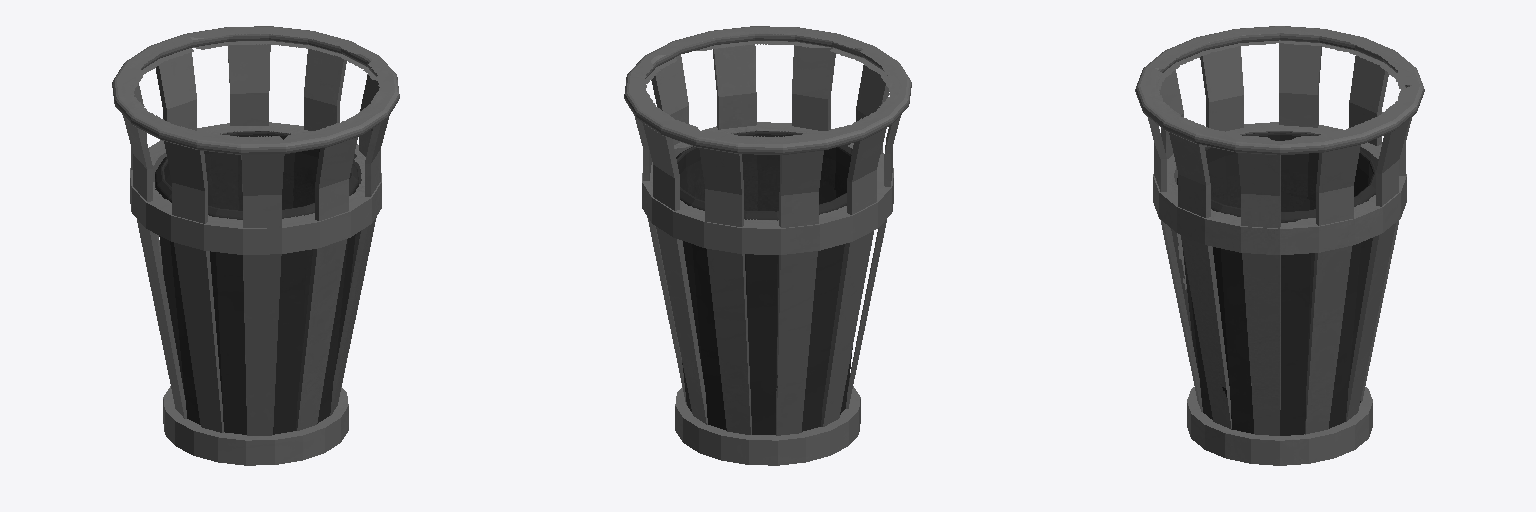
3 renders of one model, left to right at view 1: azimuth 30°, elevation 25°; view 2: azimuth 150°, elevation 25°; view 3: azimuth 270°, elevation 25°, orthographic.
Visible parts, largest first — view 1: pCylinder8; view 2: pCylinder8; view 3: pCylinder8.
Part boxes in pixels (bbox=[...]): pCylinder8: bbox=[112, 26, 399, 465]; pCylinder8: bbox=[624, 26, 911, 465]; pCylinder8: bbox=[1135, 26, 1424, 465].
Size of the model in its own units: 0.7388 by 0.9618 by 0.7388.
Materials: 1 (1 with a texture image).